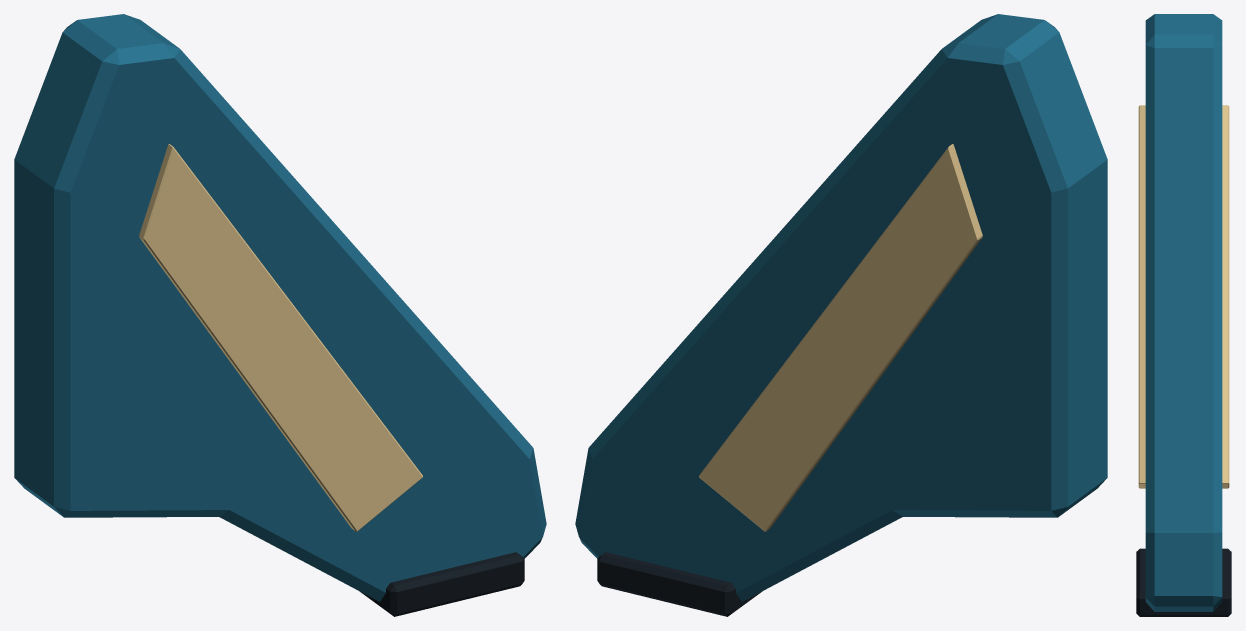
Rendered from QR_SweptFin.fbx.
The picture shows the model from 3 angles, left to right: view 1: azimuth 30°, elevation 25°; view 2: azimuth 150°, elevation 25°; view 3: azimuth 270°, elevation 25°; orthographic projection. The views are drawn at different scales.
Visible parts, largest first — view 1: QR_SweptFin; view 2: QR_SweptFin; view 3: QR_SweptFin.
Part boxes in pixels (x1=…): QR_SweptFin: x1=14, y1=14, x2=546, y2=616; QR_SweptFin: x1=575, y1=14, x2=1107, y2=616; QR_SweptFin: x1=1136, y1=14, x2=1231, y2=616.
Size of the model in its own units: 0.6576 by 0.7985 by 0.15.
Materials: 3 (3 with a texture image).
